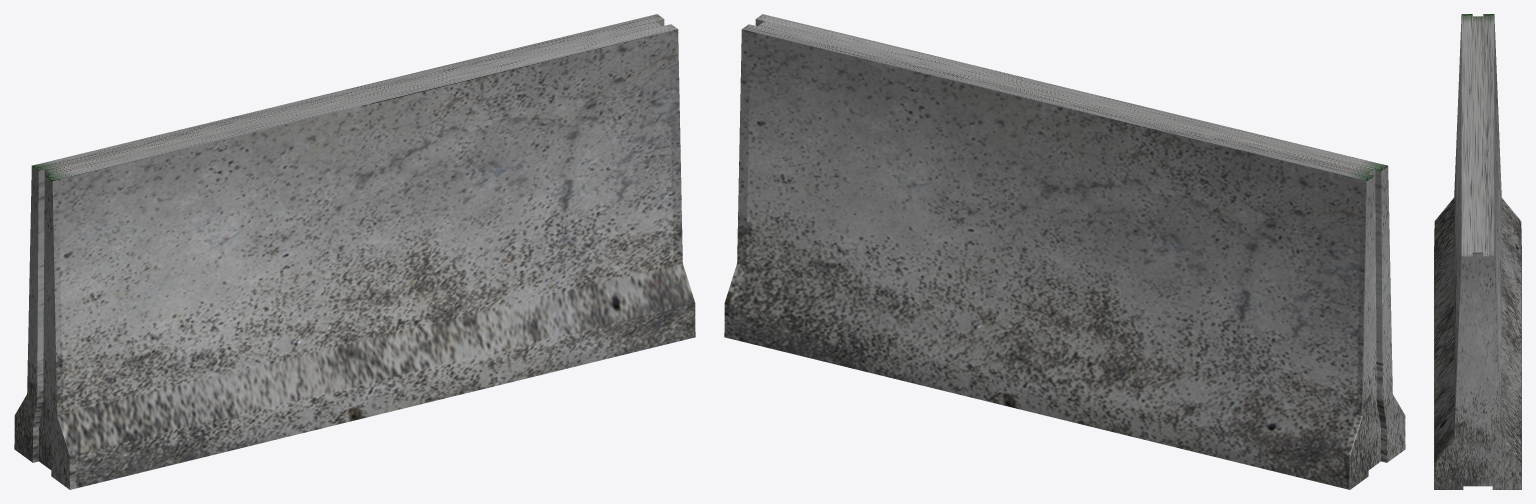
The model's file is barricade.FBX.
The picture shows the model from 3 angles, left to right: view 1: azimuth 30°, elevation 25°; view 2: azimuth 150°, elevation 25°; view 3: azimuth 270°, elevation 25°; orthographic projection. The views are drawn at different scales.
Parts seen in each view (by area): view 1: Box001; view 2: Box001; view 3: Box001.
Part boxes in pixels (x1,y1,x2,y2): Box001: (14,14,695,489); Box001: (724,14,1405,489); Box001: (1434,14,1521,489).
Bounding box in the file's own units: 126 × 56.83 × 19.28.
